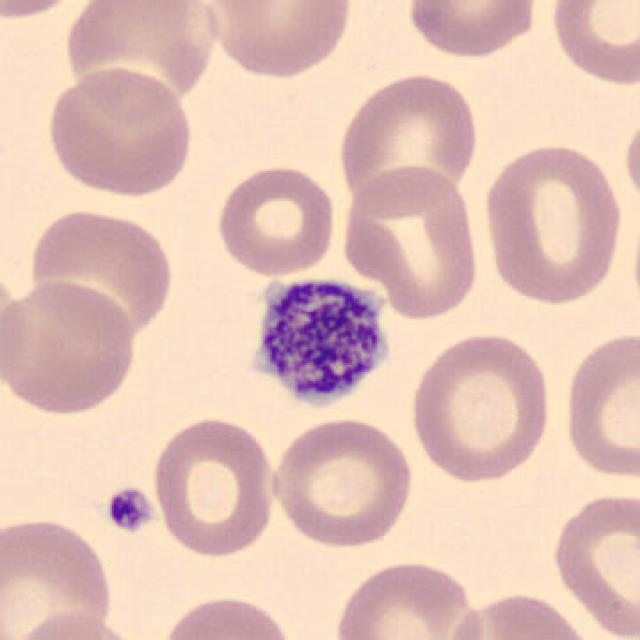Platelets: (259, 276, 387, 404), (102, 483, 158, 536)
RBC: (478, 136, 626, 307), (406, 328, 556, 487), (338, 160, 483, 322), (23, 203, 180, 342), (334, 67, 484, 210), (41, 64, 195, 200), (266, 413, 418, 550), (0, 273, 140, 417), (148, 412, 279, 560), (58, 0, 220, 113), (212, 160, 340, 278), (0, 511, 117, 639), (546, 486, 640, 640), (331, 555, 485, 640), (201, 0, 357, 81), (558, 328, 638, 483), (402, 0, 542, 62), (544, 0, 638, 90), (439, 587, 596, 640), (156, 592, 297, 640), (7, 608, 148, 640), (620, 104, 640, 220), (2, 0, 94, 21)
